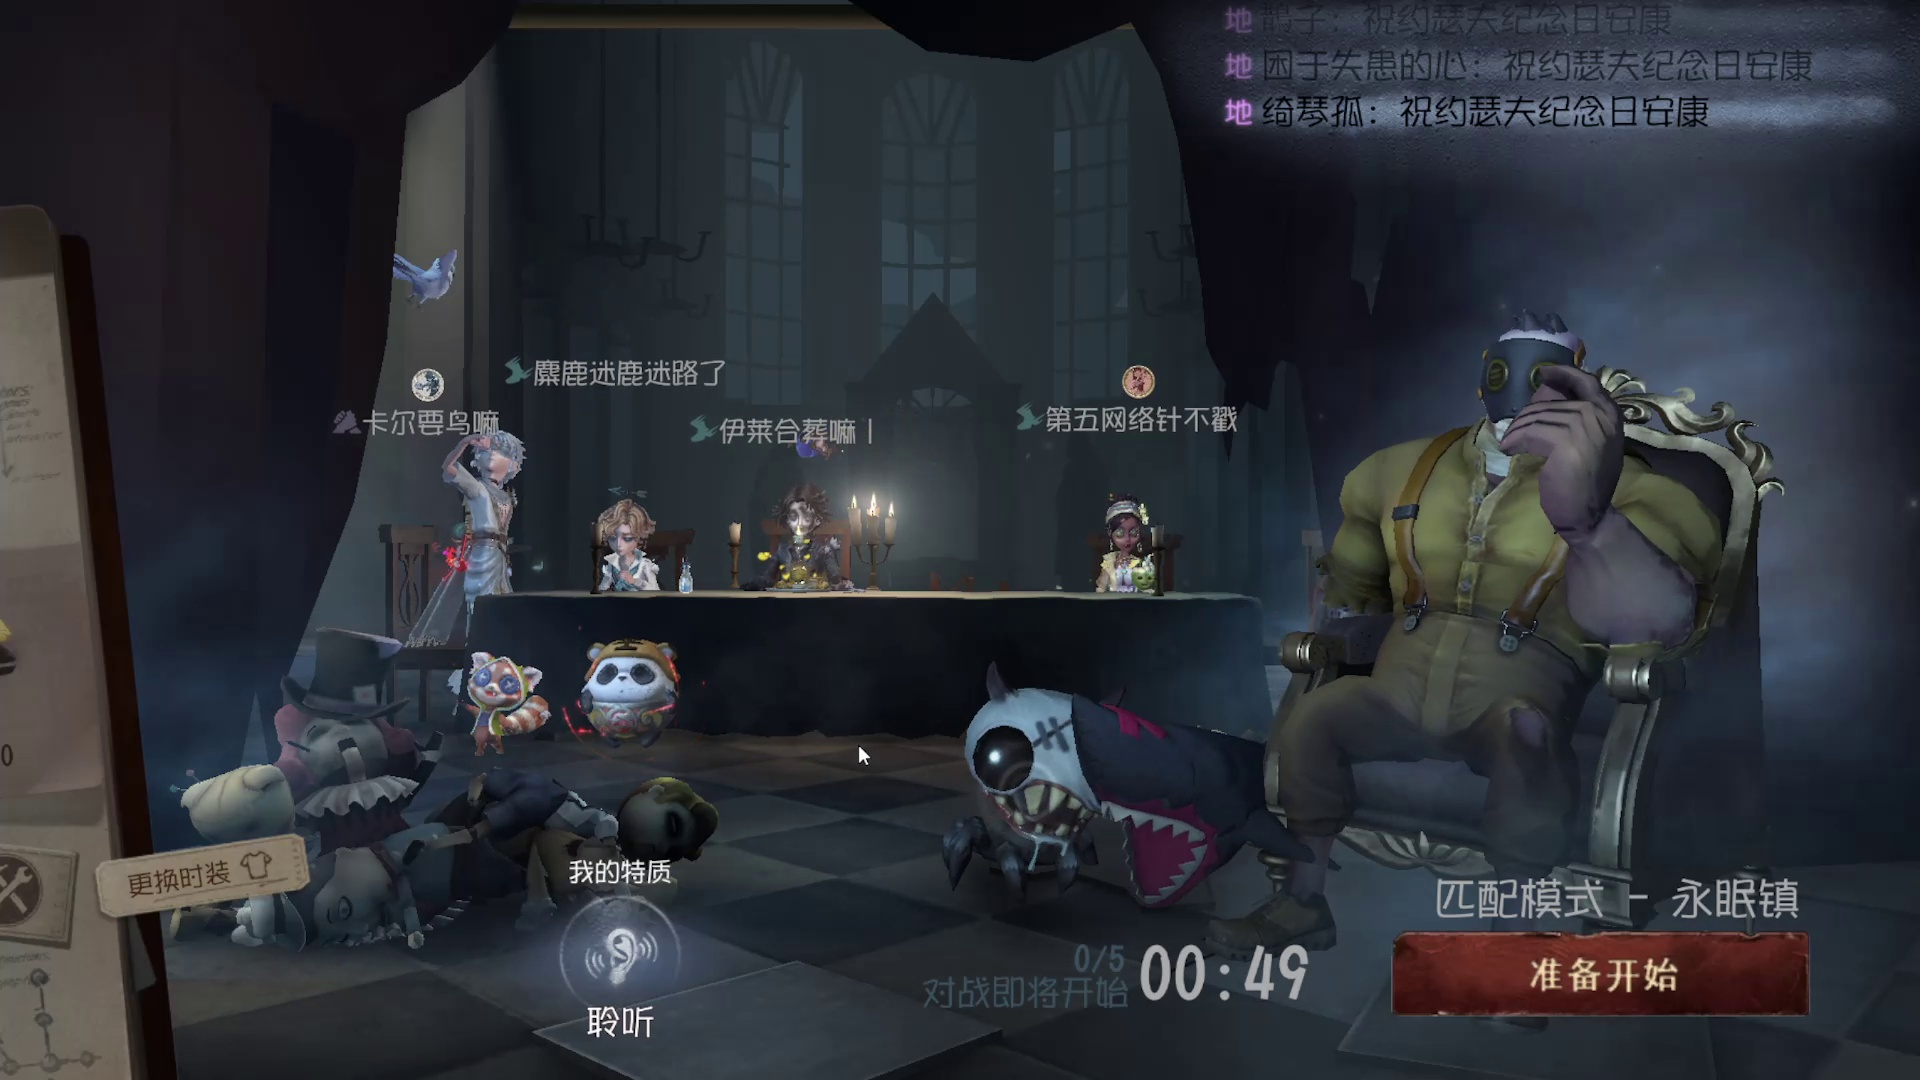准备开始: (1327, 862, 1830, 1031)
